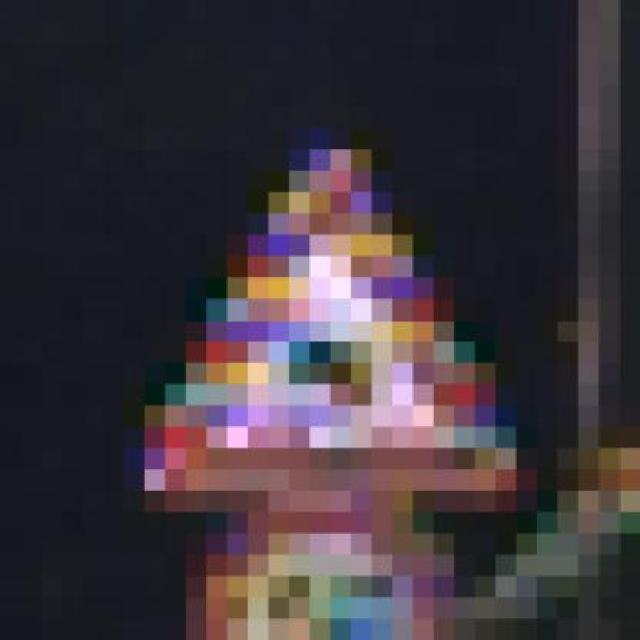Slippery Road Ahead: (123, 106, 537, 512)
